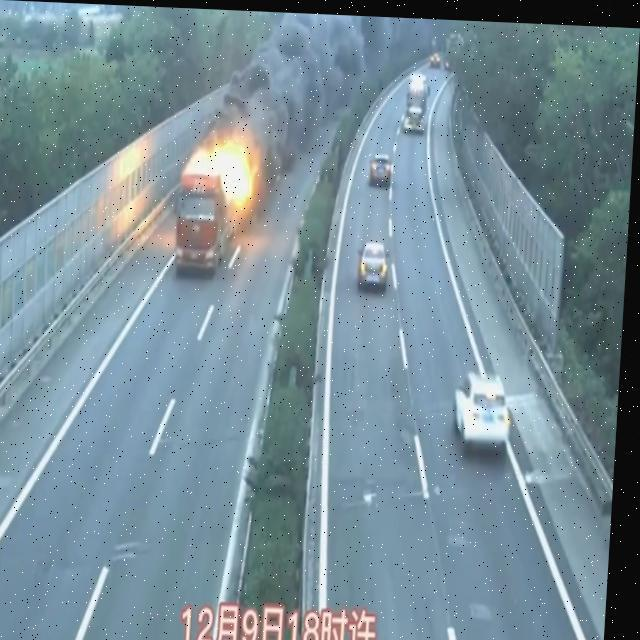multiple_accident: (180, 47, 300, 357)
normal: (343, 155, 408, 303), (445, 366, 521, 449)
